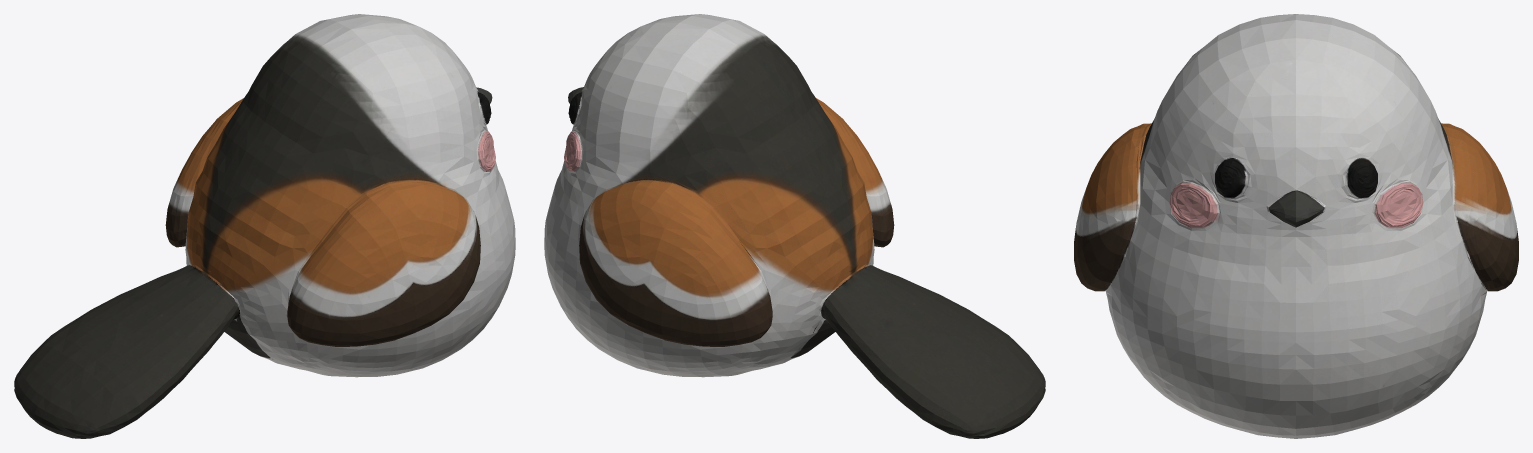
The model's file is cutewhitebird.glb.
3 views of the same model, side by side, from view 1: azimuth 30°, elevation 25°; view 2: azimuth 150°, elevation 25°; view 3: azimuth 270°, elevation 25° (orthographic). The views are drawn at different scales.
Parts seen in each view (by area): view 1: tripo_node_ee2ceaa2-8f0e-4984-8b04-2c42683c0764; view 2: tripo_node_ee2ceaa2-8f0e-4984-8b04-2c42683c0764; view 3: tripo_node_ee2ceaa2-8f0e-4984-8b04-2c42683c0764.
Part boxes in pixels (<box>): tripo_node_ee2ceaa2-8f0e-4984-8b04-2c42683c0764: <box>14,14,515,438</box>; tripo_node_ee2ceaa2-8f0e-4984-8b04-2c42683c0764: <box>544,14,1045,438</box>; tripo_node_ee2ceaa2-8f0e-4984-8b04-2c42683c0764: <box>1074,14,1518,438</box>.
Size of the model in its own units: 0.9983 by 0.6871 by 0.7106.
1 material, 1 textured.
